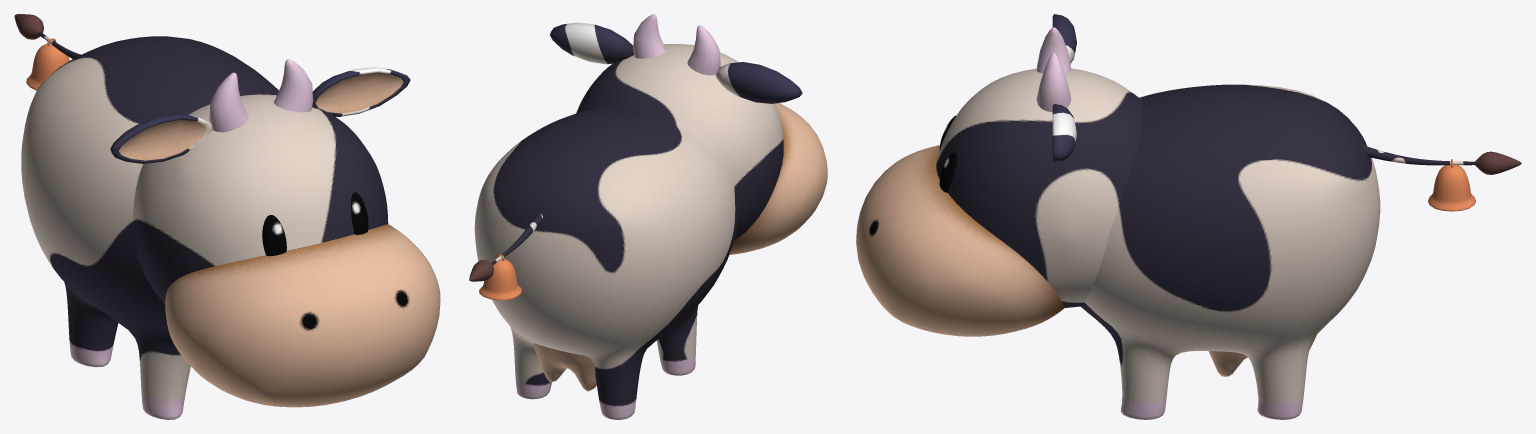
The model's file is Cow.fbx.
3 views of the same model, side by side, from view 1: azimuth 30°, elevation 25°; view 2: azimuth 150°, elevation 25°; view 3: azimuth 270°, elevation 25° (orthographic). The views are drawn at different scales.
Visible parts, largest first — view 1: Badan Retopo, Telinga, Tanduk, Mata, Lonceng, Ekor; view 2: Badan Retopo, Telinga, Tanduk, Susu, Lonceng, Ekor; view 3: Badan Retopo, Tanduk, Telinga, Lonceng, Ekor, Susu.
Part boxes in pixels (<box>): Badan Retopo: <box>21,36,440,419</box>; Telinga: <box>110,67,410,163</box>; Tanduk: <box>209,59,313,132</box>; Mata: <box>262,192,368,256</box>; Lonceng: <box>26,43,69,90</box>; Ekor: <box>14,14,80,58</box>; Badan Retopo: <box>474,44,827,419</box>; Telinga: <box>550,22,802,103</box>; Tanduk: <box>633,14,720,75</box>; Susu: <box>533,343,596,391</box>; Lonceng: <box>479,259,521,300</box>; Ekor: <box>469,213,542,281</box>; Badan Retopo: <box>856,68,1380,419</box>; Tanduk: <box>1036,27,1071,112</box>; Telinga: <box>1052,14,1076,162</box>; Lonceng: <box>1428,165,1475,211</box>; Ekor: <box>1363,145,1521,174</box>; Susu: <box>1208,335,1316,376</box>.
Bounding box in the file's own units: 208 × 245 × 423.
Materials: 4 (1 with a texture image).
